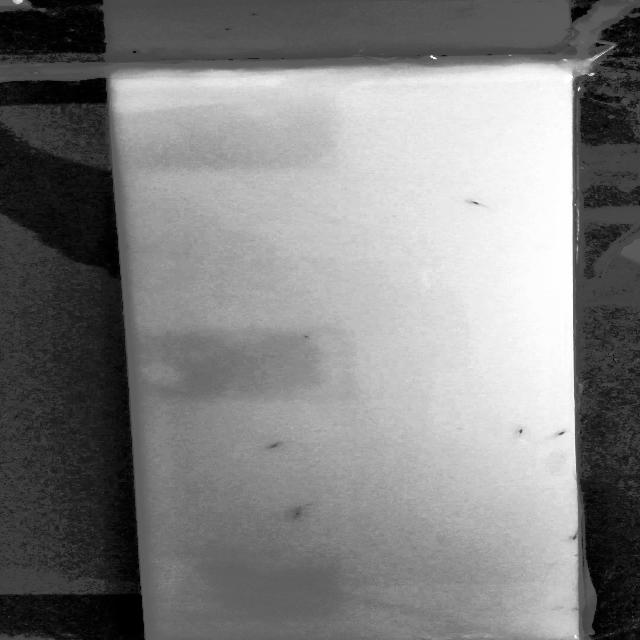shrimp: (279, 502, 314, 522), (461, 194, 495, 209), (511, 426, 537, 437), (266, 439, 287, 452), (560, 531, 578, 543), (553, 430, 572, 439)
